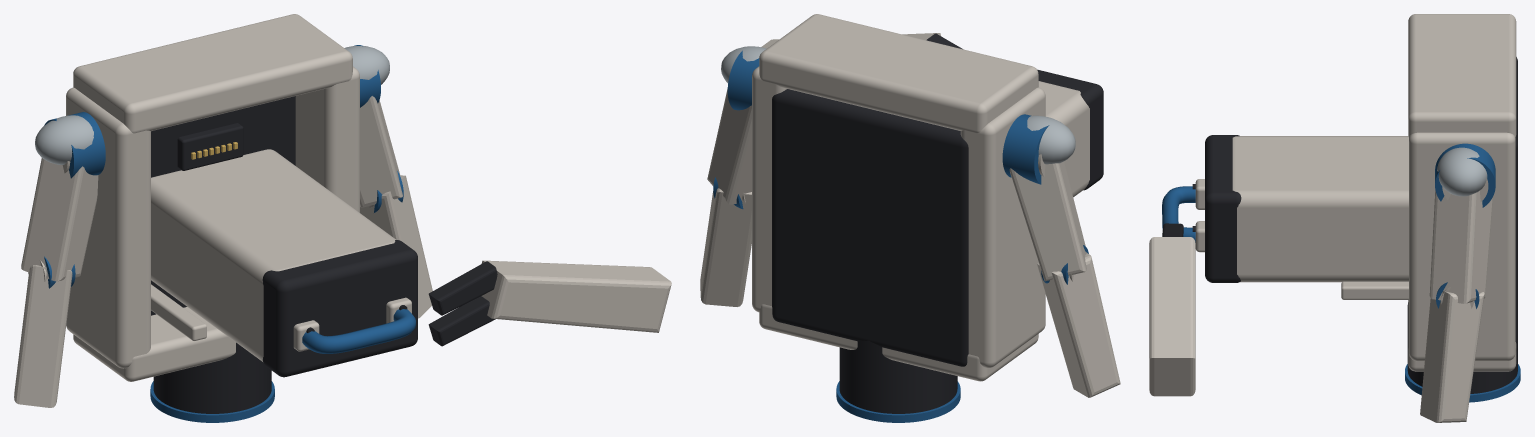
Rendered from anatomy-46.glb.
3 renders of one model, left to right at view 1: azimuth 30°, elevation 25°; view 2: azimuth 150°, elevation 25°; view 3: azimuth 270°, elevation 25°, orthographic. The views are drawn at different scales.
Parts seen in each view (by area): view 1: frame, pack, arms, fingers, waist, bay, socket, handle, rails, handle-mounts; view 2: bay, frame, arms, waist, pack, fingers; view 3: pack, frame, arms, fingers, waist, rails, handle, bay, handle-mounts.
Boxes of the visible parts, x1,y1,x2,y2 form: frame: (66, 14, 359, 381); pack: (151, 149, 417, 377); arms: (14, 45, 432, 407); fingers: (428, 260, 671, 346); waist: (150, 342, 274, 422); bay: (151, 96, 295, 315); socket: (177, 123, 243, 170); handle: (302, 309, 415, 353); rails: (151, 284, 206, 340); handle-mounts: (293, 297, 411, 351); bay: (772, 89, 968, 366); frame: (752, 14, 1045, 381); arms: (700, 46, 1120, 397); waist: (836, 340, 960, 422); pack: (1037, 69, 1103, 197); fingers: (761, 33, 962, 49); pack: (1205, 135, 1408, 282); frame: (1408, 14, 1516, 371); arms: (1420, 143, 1495, 422); fingers: (1149, 223, 1195, 396); waist: (1405, 302, 1520, 402); rails: (1341, 281, 1408, 299); handle: (1162, 186, 1195, 242); bay: (1515, 57, 1517, 351); handle-mounts: (1192, 179, 1204, 252).
Size of the model in its own units: 2.6 by 1.67 by 1.79.
